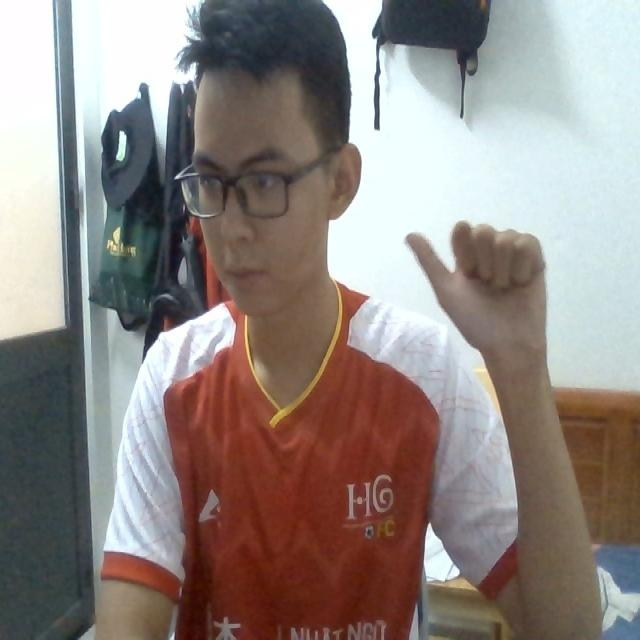A: (398, 222, 560, 370)
